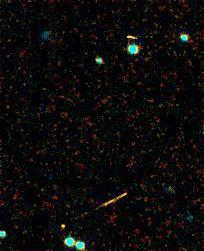star: (46, 213, 76, 243)
